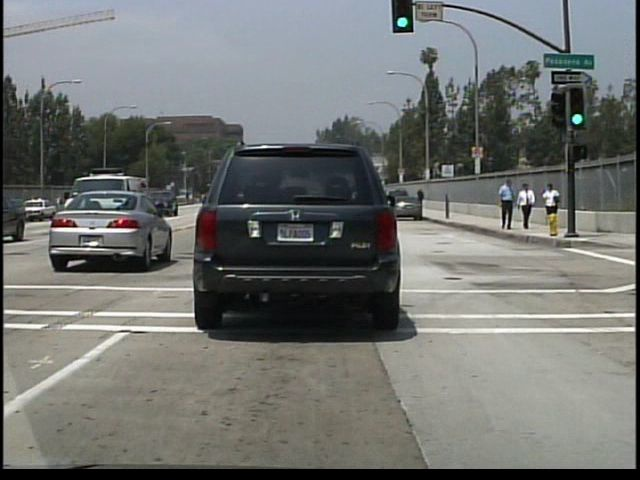person: (496, 178, 516, 235), (519, 182, 539, 231), (542, 181, 562, 214), (415, 187, 426, 212)
